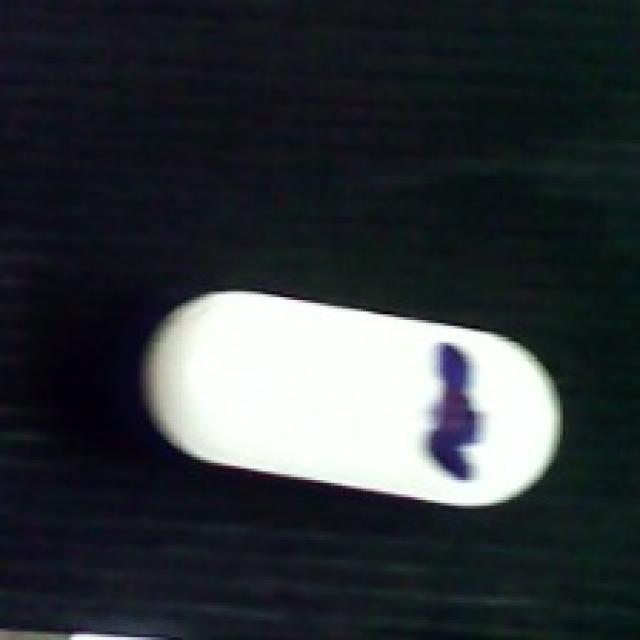defected: (132, 288, 572, 508)
